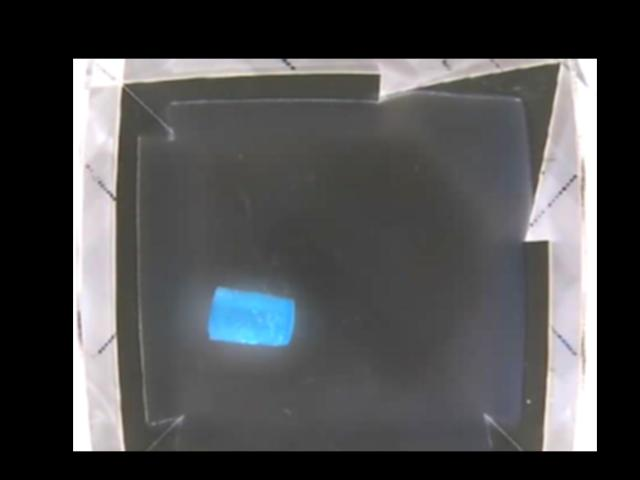Carrot: (206, 285, 294, 344)
